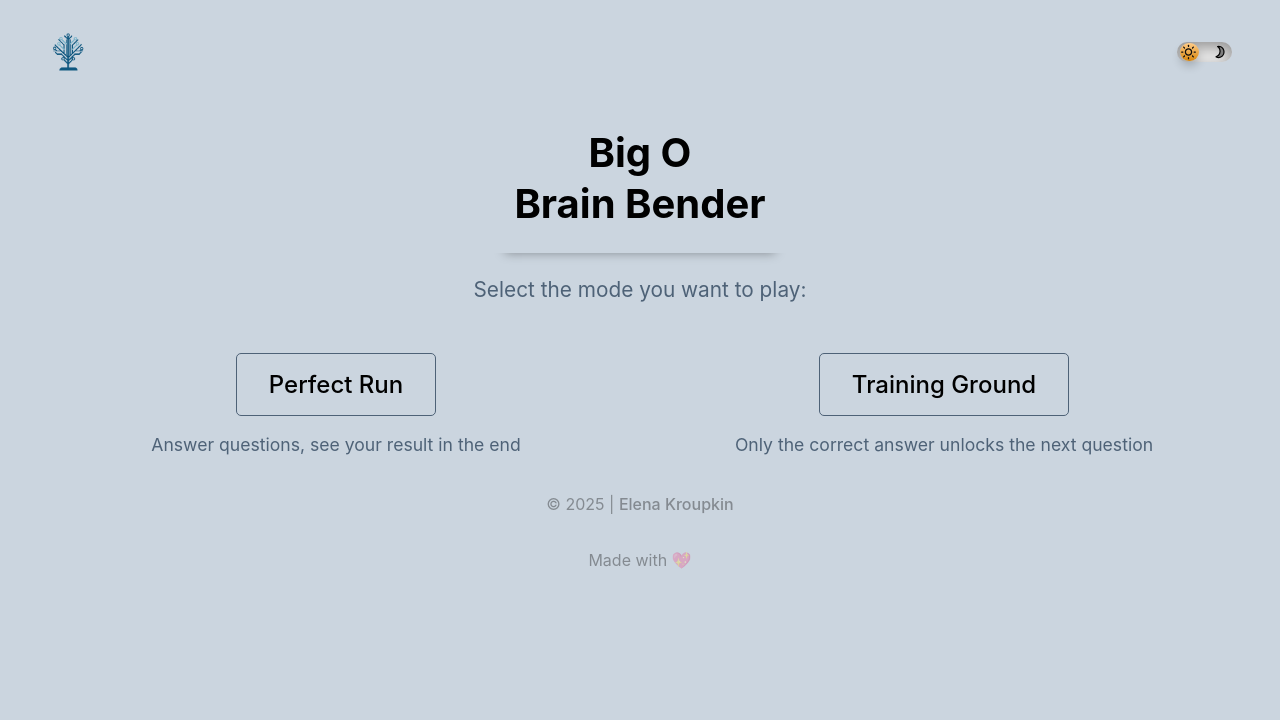
Big O Quiz Application › should start normal mode quiz
The width and height of the screenshot is (1280, 720).
Click the button "Perfect Run".
click(336, 385)  # box [236,353,436,416]
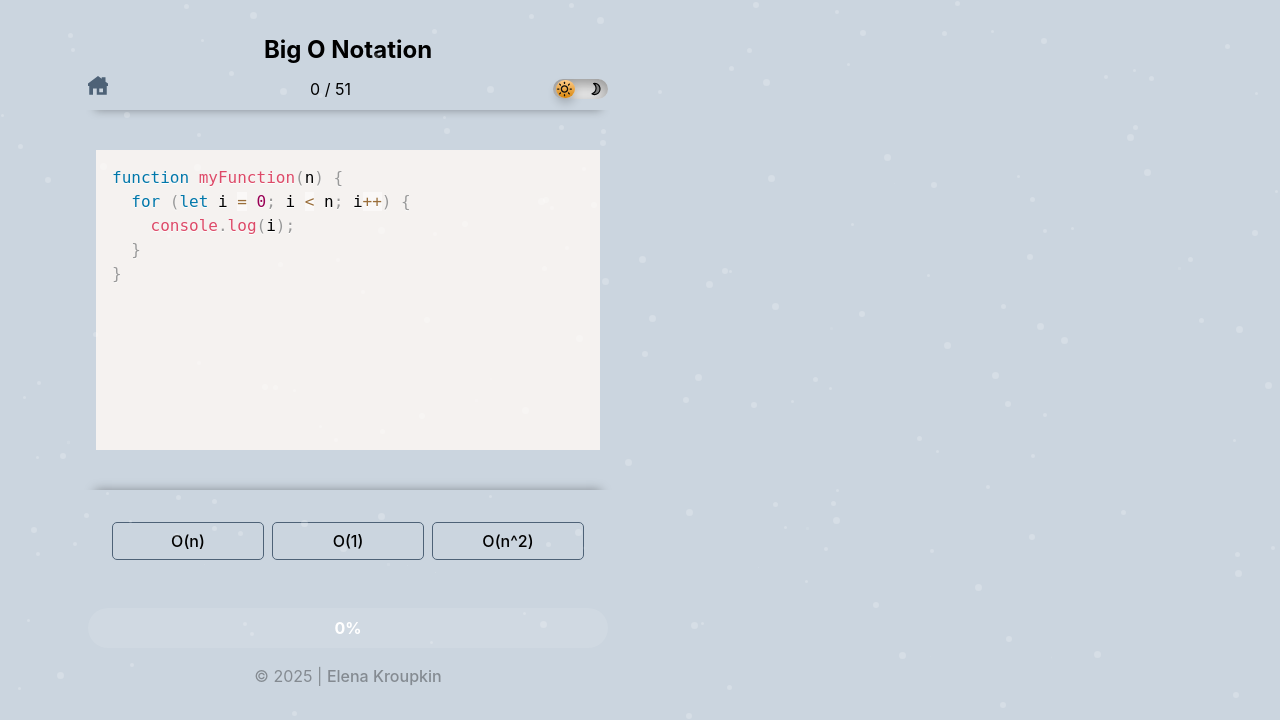
Result: the heading "Big O Notation" is shown at [264,35,432,64]
Result: the element that starts with "function" is shown at [80,68,616,719]
Result: the element showing "0%" is shown at [88,608,608,648]
